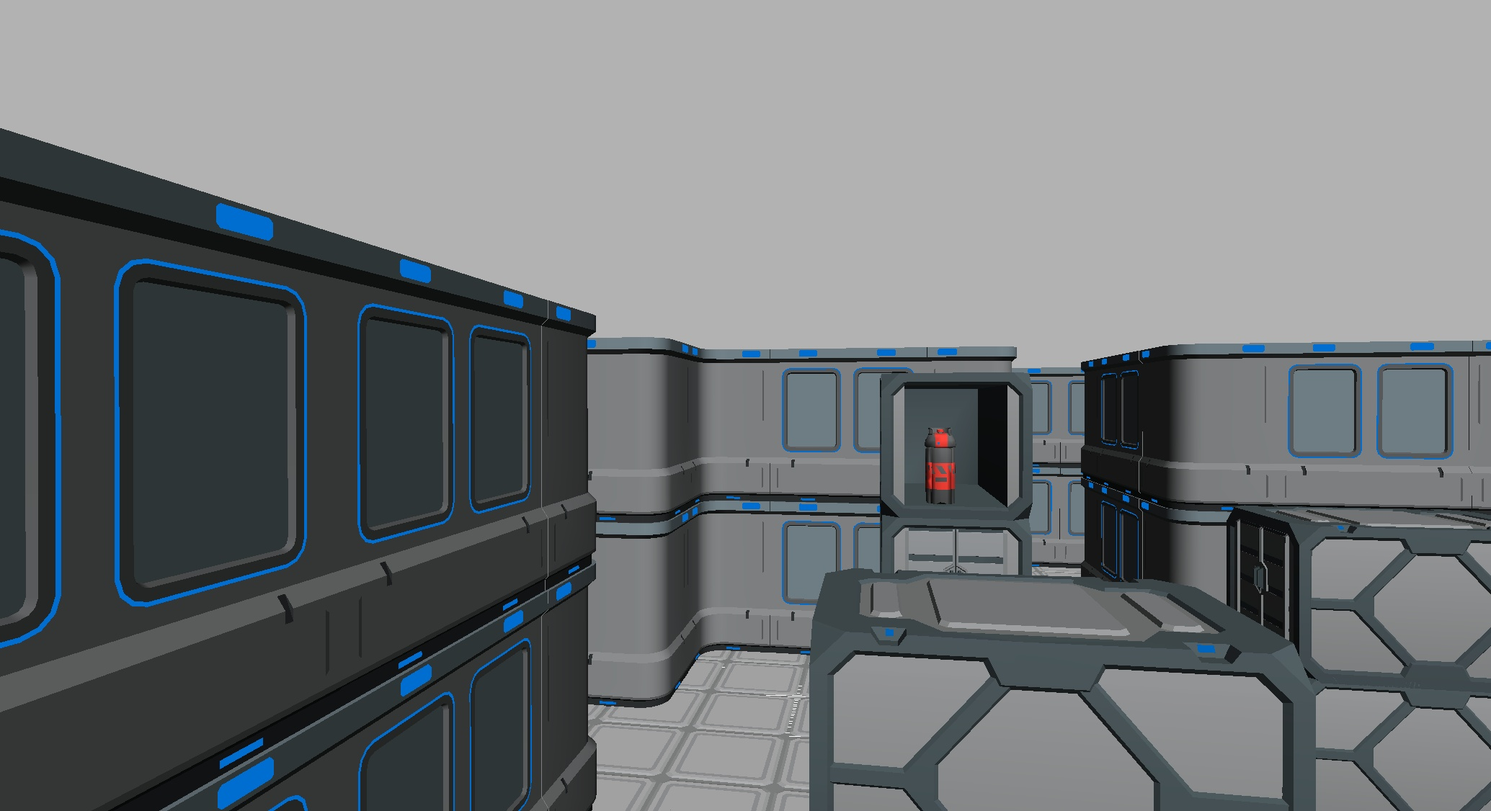red_barrel: (925, 428, 956, 503)
